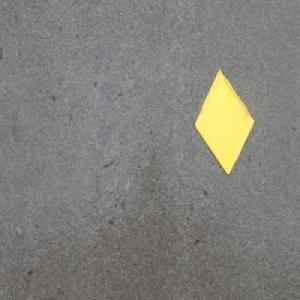PlasticPart: (193, 67, 255, 175)
